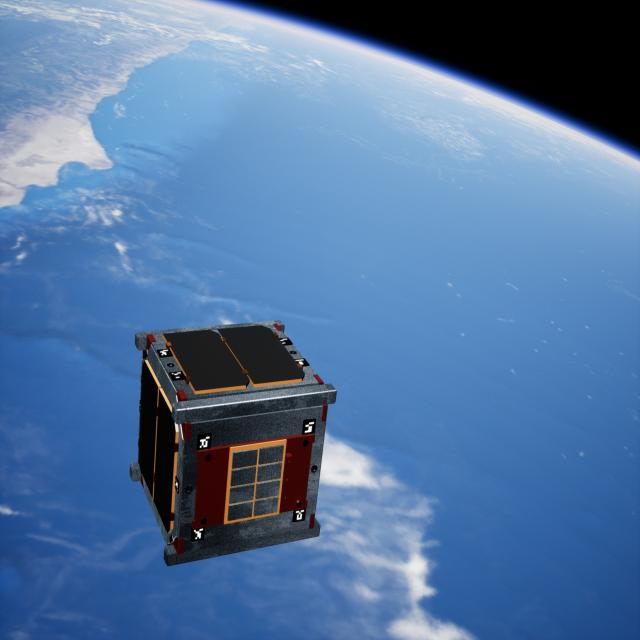satellite: (128, 296, 344, 566)
